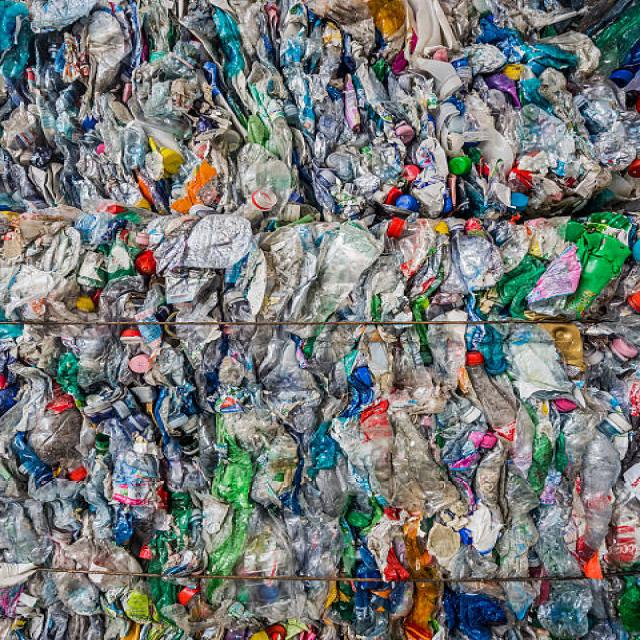metal: (18, 16, 622, 630)
